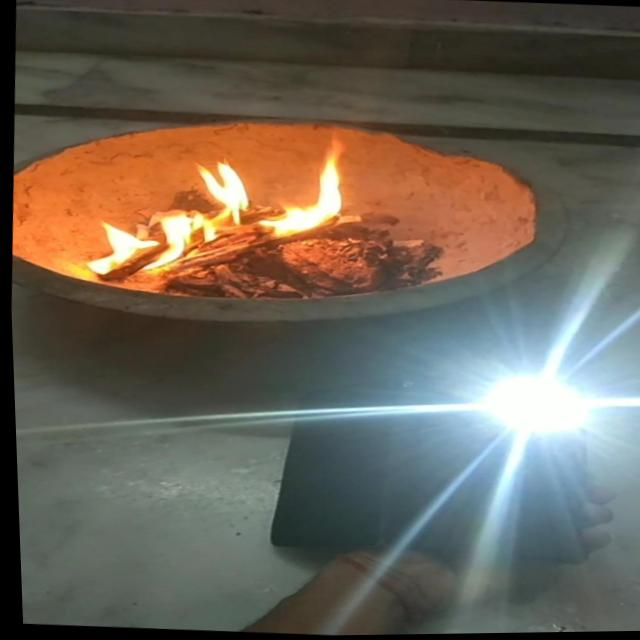fire: (67, 126, 362, 293)
